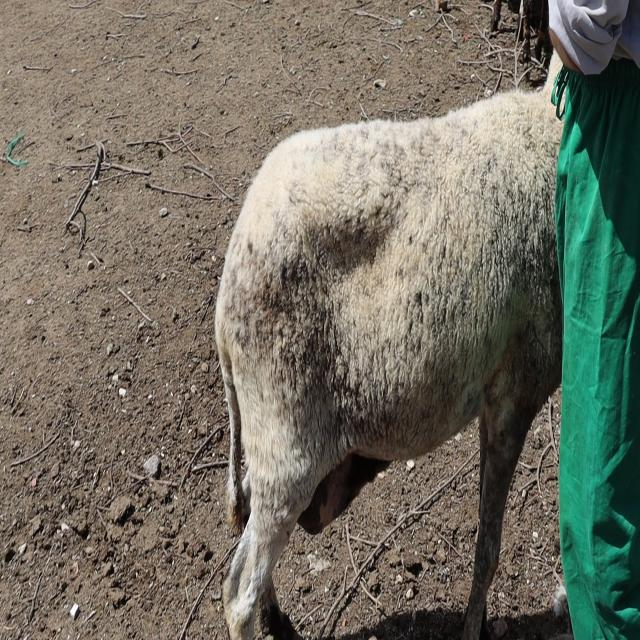Score_3: (214, 59, 562, 639)
